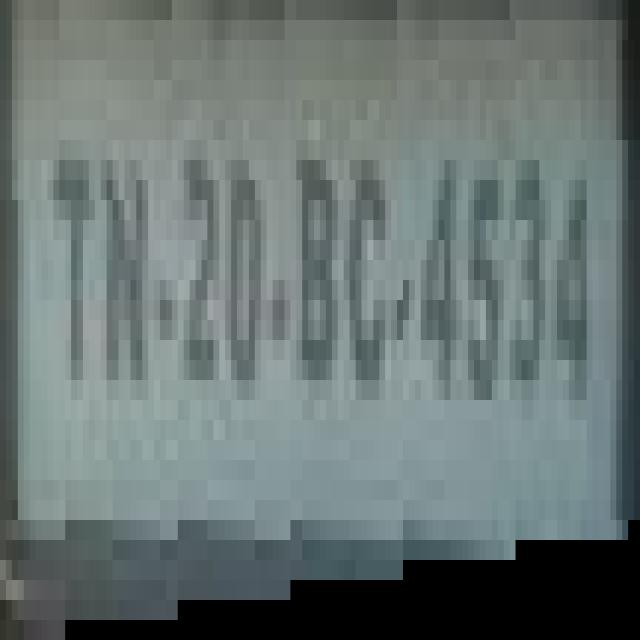license_plate: (23, 40, 640, 580)
